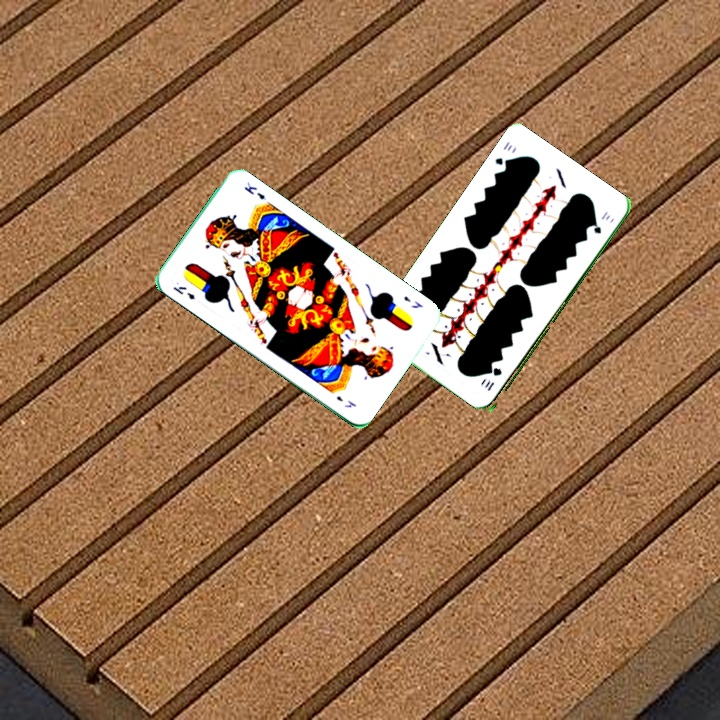EK: (169, 282, 197, 302), (400, 292, 425, 311)
G10: (491, 137, 515, 171), (481, 364, 505, 394)
